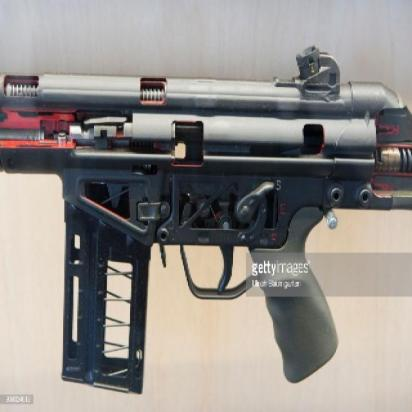Gun: (0, 63, 411, 372)
